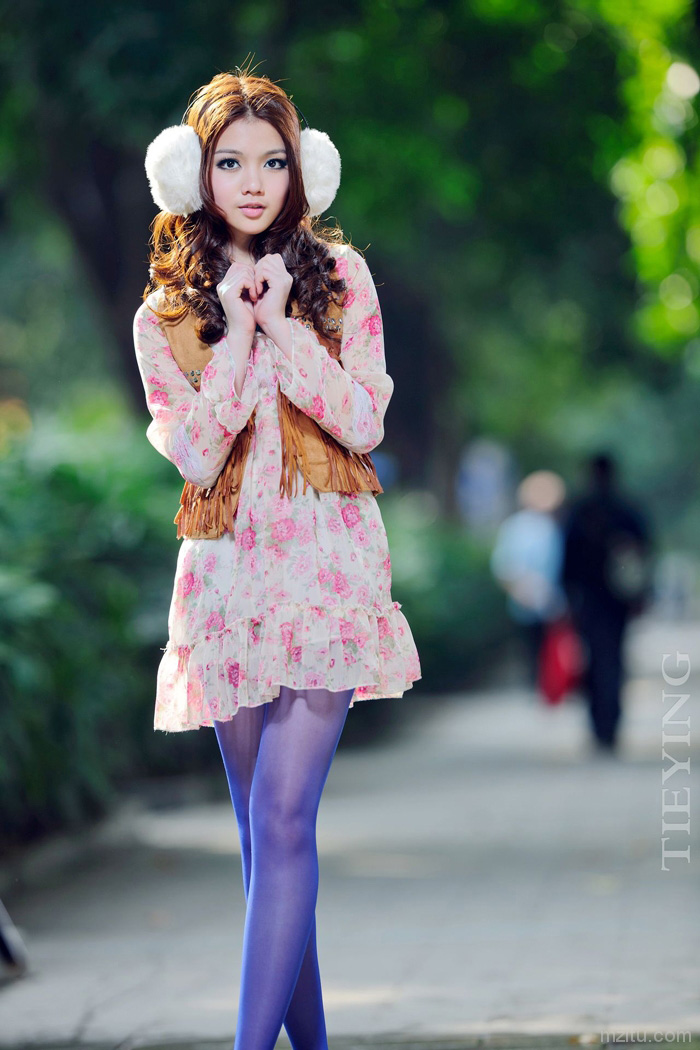women: (109, 56, 420, 1049)
